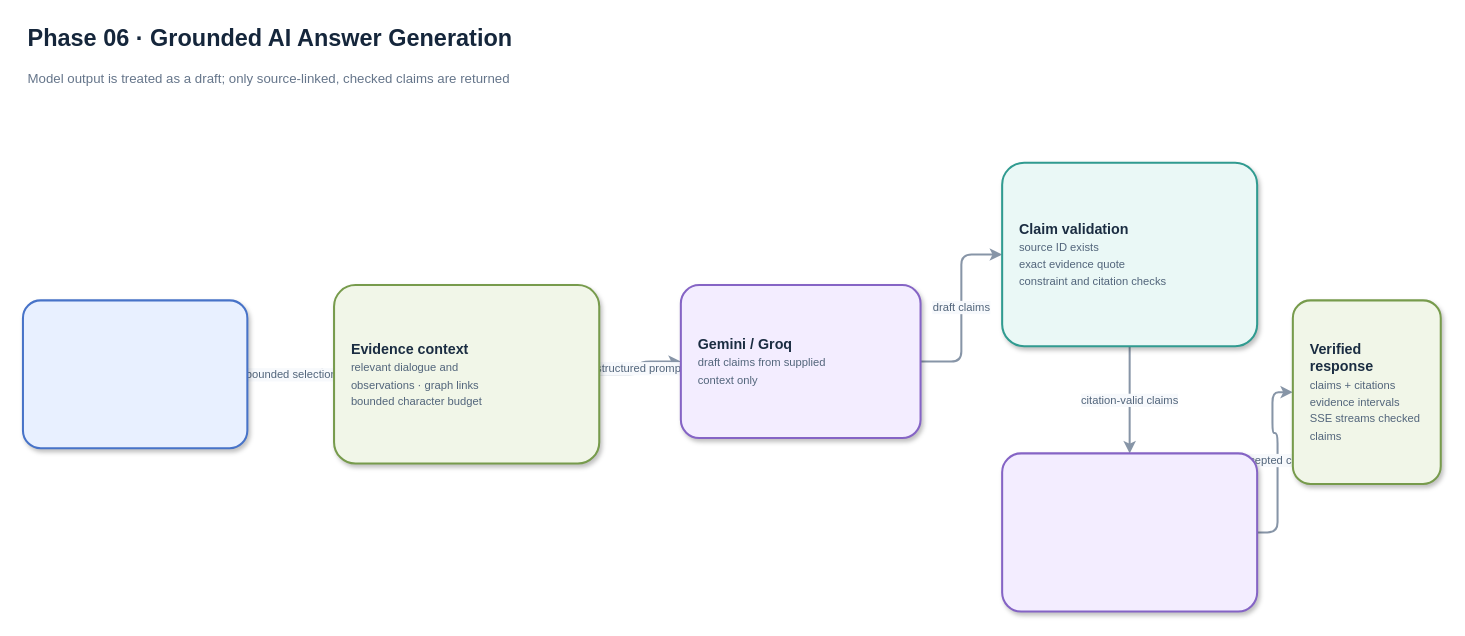
The diagram is 1465 pixels wide and 636 high, and some of its shapes have lost their labels. The shapes that lost their labels are listed below. From the top down, each one's centre as x and y in pixels, then its label:
At pixel 135 375: "Ranked scenes selected scene IDs query + collection scope".
At pixel 1130 533: "Provider entailment check separate verification call fallible; not a guarantee".
